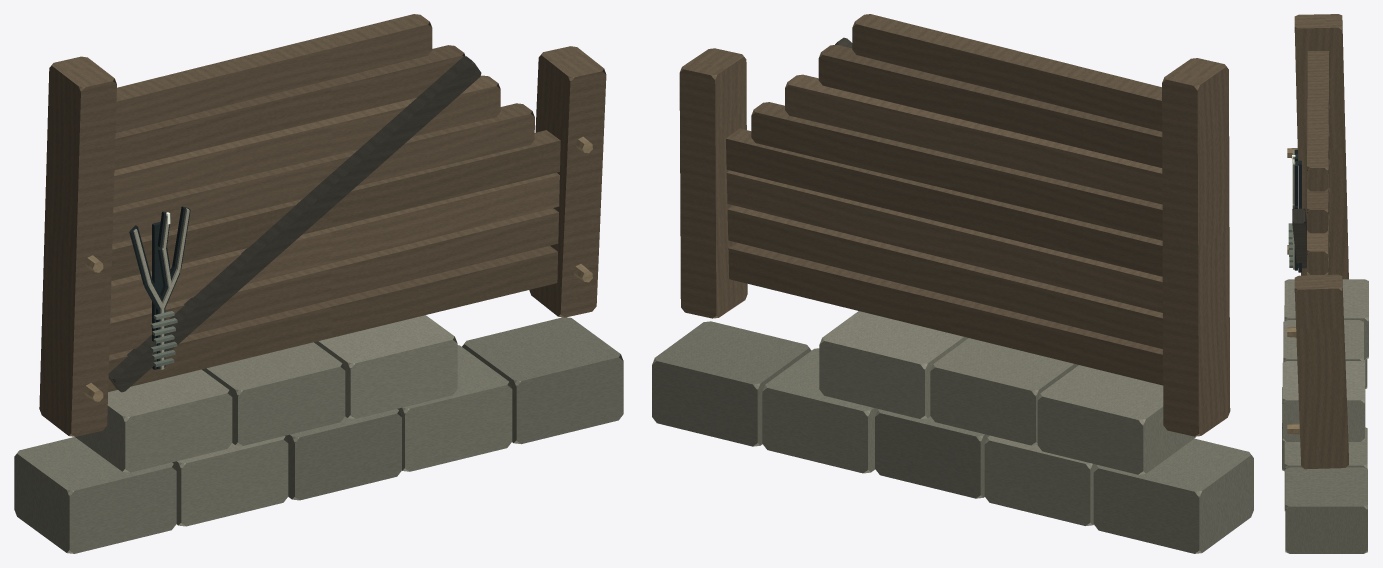
Rendered from cataclysm_rootvault_wall.glb.
The picture shows the model from 3 angles, left to right: view 1: azimuth 30°, elevation 25°; view 2: azimuth 150°, elevation 25°; view 3: azimuth 270°, elevation 25°; orthographic projection. The views are drawn at different scales.
Visible parts, largest first — view 1: cataclysm_rootvault_wall; view 2: cataclysm_rootvault_wall; view 3: cataclysm_rootvault_wall.
Boxes of the visible parts, box(x1,y1,x2,y2) form: cataclysm_rootvault_wall: box(14, 14, 623, 553); cataclysm_rootvault_wall: box(652, 14, 1253, 553); cataclysm_rootvault_wall: box(1282, 14, 1368, 553).
Size of the model in its own units: 2.92 by 2.31 by 0.529.
4 materials, 4 textured.
